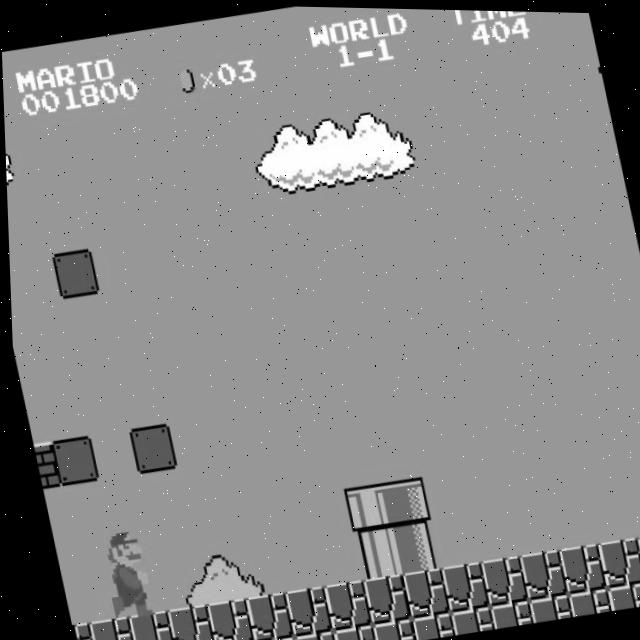0- big_mario: (89, 520, 151, 621)
1- brick_block: (29, 440, 56, 488)
14- pipe: (348, 525, 398, 578), (387, 519, 437, 572)
15- pipe_head: (339, 480, 389, 533), (378, 474, 428, 527)
17- undestructible_block: (279, 583, 329, 636), (357, 571, 407, 624), (436, 558, 486, 611), (475, 552, 525, 605), (553, 539, 603, 592), (319, 577, 368, 630), (515, 546, 564, 599), (240, 589, 290, 640), (397, 565, 446, 617), (593, 533, 640, 586), (200, 595, 250, 640), (161, 602, 211, 640), (123, 608, 172, 640), (406, 609, 451, 640), (445, 603, 490, 634), (523, 590, 568, 621), (563, 584, 608, 615), (485, 597, 529, 627), (83, 614, 132, 640), (602, 578, 640, 608), (367, 615, 412, 640), (327, 621, 372, 640), (288, 628, 333, 640), (66, 621, 92, 640), (632, 527, 640, 579), (249, 634, 294, 640)
3- empty_block: (46, 434, 96, 486), (125, 421, 174, 474), (49, 247, 98, 299)
